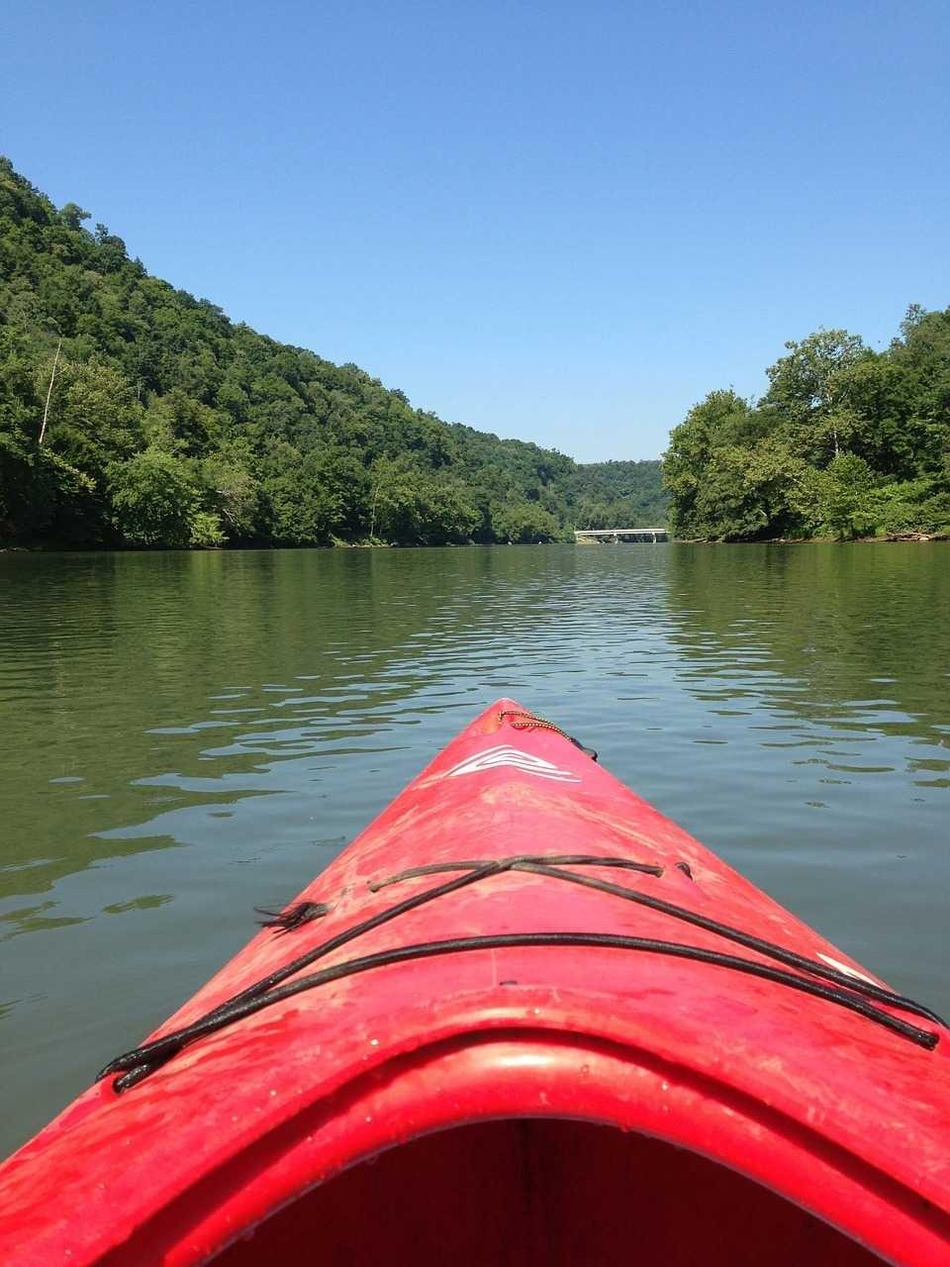kayak: (5, 695, 946, 1265)
